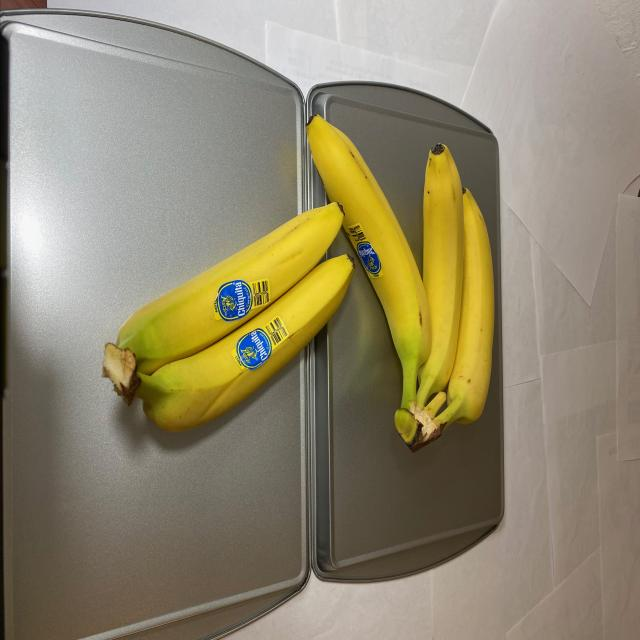banana: (305, 108, 495, 459), (99, 196, 356, 440)
